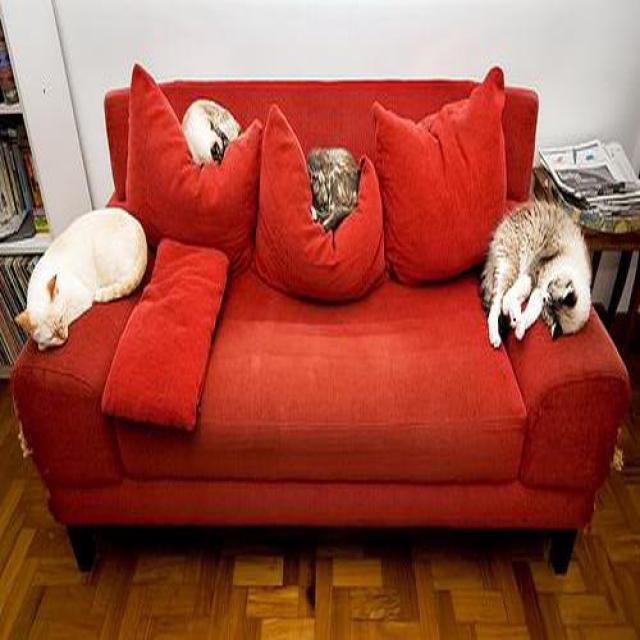sofa: (10, 67, 631, 544)
